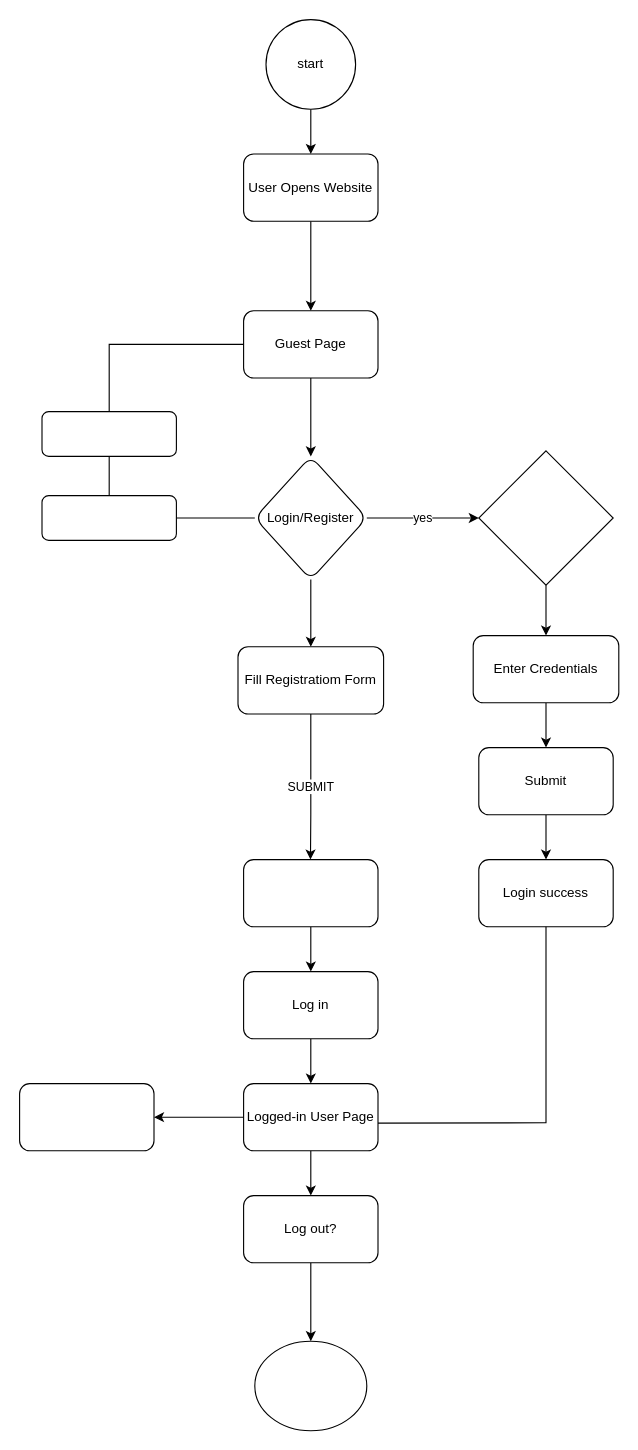
Image size: 638x1450. Some labels were removed from this diagram. The shapes that lost their labels are listed below. From the top down, each one's box as (x1, y1, x2, y2) in pixels, then its label:
(41, 410, 176, 456): Browse Books
(41, 494, 176, 540): Add to Cart/Favorites?
(478, 450, 613, 585): Register/Login/ Guest
(242, 858, 378, 927): Registration success
(18, 1082, 154, 1151): View Cart/Likes
(254, 1340, 367, 1431): End
